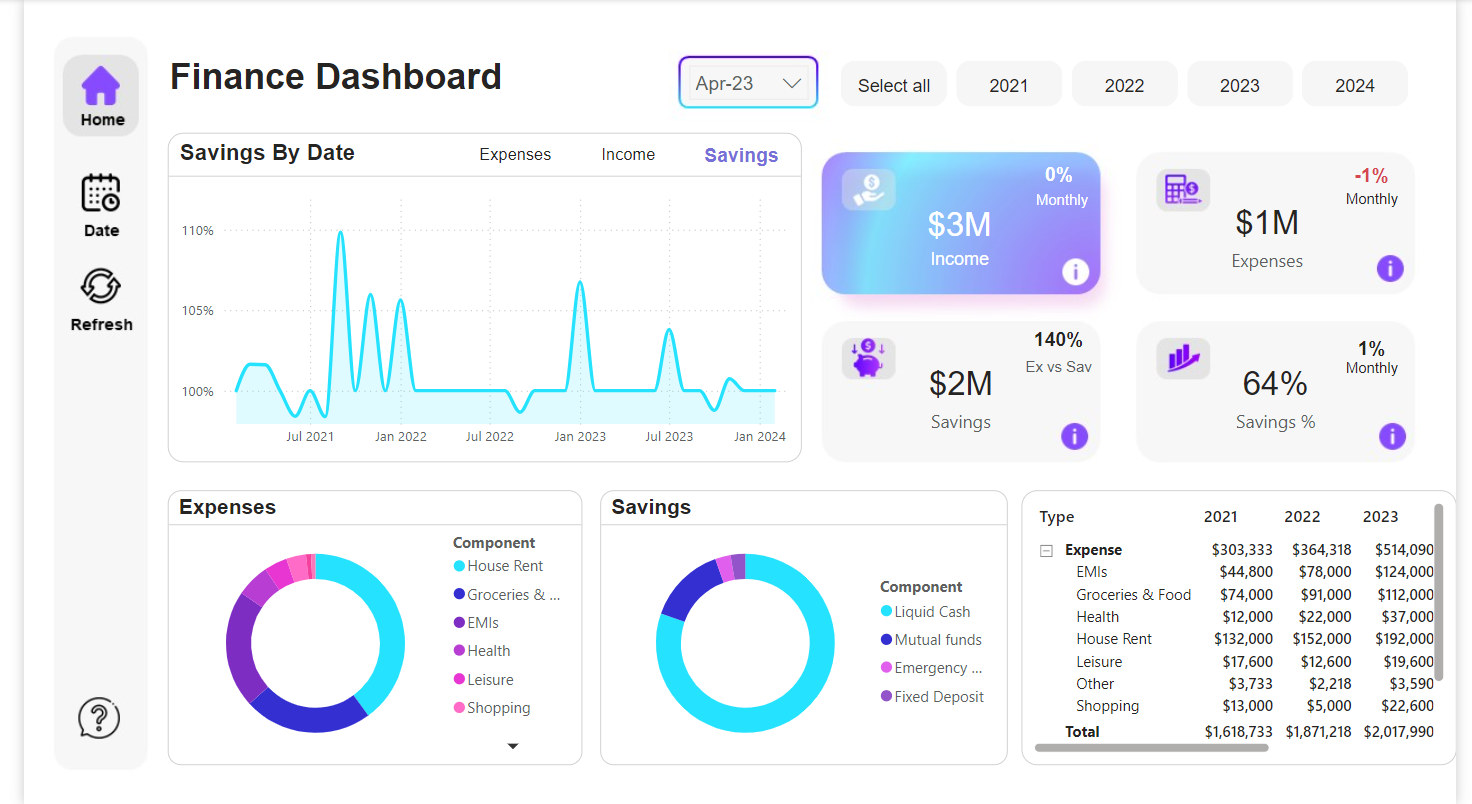

Layout of this report page (visuals, bound fields, positions):
{"tool":"powerbi","page":{"name":"Page 1","canvas":[1280,720],"ordinal":0},"visuals":[{"type":"card","fields":{"Values":["Dataset.Income"]},"box":[720.9,153.5,229.1,114],"z":0},{"type":"card","fields":{"Values":["Dataset.Savings"]},"box":[691.9,294.2,289.5,120.9],"z":1000},{"type":"card","fields":{"Values":["Dataset.Expenses"]},"box":[979.1,138.4,262.8,144.2],"z":2000},{"type":"card","fields":{"Values":["Dataset.Savings %"]},"box":[990.7,294.2,255.8,120.9],"z":3000},{"type":"advancedSlicerVisual","fields":{"Values":["Dataset.Yearr"]},"box":[725.2,50.6,518.6,52],"z":4000},{"type":"donutChart","title":"Savings","fields":{"Y":["Dataset.Savings"],"Category":["Dataset.Component"]},"box":[514.8,438.8,364,245.7],"z":5000},{"type":"donutChart","title":"Expenses","fields":{"Y":["Dataset.Expenses"],"Category":["Dataset.Component"]},"box":[128.4,438.8,370.7,245.7],"z":6000},{"type":"pivotTable","fields":{"Values":["Dataset.Total Value"],"Rows":["Dataset.Type","Dataset.Component"],"Columns":["Dataset.Yearr"]},"box":[891.1,438.8,388.6,245.7],"z":7000},{"type":"areaChart","fields":{"Category":["Dataset.Date"],"Y":["Dataset.Line_Chart_Measures"]},"box":[128.4,119.5,566.1,294.8],"z":8000},{"type":"advancedSlicerVisual","fields":{"Values":["Line_Selection_Table.Type"]},"box":[387.9,120.9,306.4,37.9],"z":9000},{"type":"slicer","fields":{"Values":["Selected_Date.Month-Yr"]},"box":[583.7,48.8,126.7,43],"z":10000},{"type":"card","fields":{"Values":["Dataset.Income Monthly Gr"]},"box":[879.8,130.7,89.9,54.8],"z":11000},{"type":"card","fields":{"Values":["Dataset.Savings Monthly Gr"]},"box":[1160.8,285.3,85.7,57.6],"z":12000},{"type":"card","fields":{"Values":["Dataset.Expenses Monthly Gr"]},"box":[1160.8,127.9,85.7,60.4],"z":13000},{"type":"card","fields":{"Values":["Dataset.Ex vs Sav"]},"box":[878.4,285.3,91.3,57.6],"z":14000},{"type":"textbox","box":[125.1,46.9,350.6,50.2],"z":15000},{"type":"textbox","box":[1175.8,164.1,80.4,30.1],"z":16000},{"type":"textbox","box":[898.9,165.3,80.4,30.1],"z":17000},{"type":"textbox","box":[1175.8,314.9,80.4,30.1],"z":18000},{"type":"actionButton","box":[39,148.9,62.2,47.7],"z":19000},{"type":"actionButton","box":[39,232.8,62.2,47.7],"z":21000}]}

Visuals, with their boxes on the page's 1280x720 design canvas (x1, y1, x2, y2). These are canvas units, not pixel positions in the 1472x804 screenshot, which may show the page scaled, cropped or inside an application window:
card - Dataset.Income: (721, 154, 950, 268)
card - Dataset.Savings: (692, 294, 981, 415)
card - Dataset.Expenses: (979, 138, 1242, 283)
card - Dataset.Savings %: (991, 294, 1246, 415)
advancedSlicerVisual - Dataset.Yearr: (725, 51, 1244, 103)
"Savings" donutChart: (515, 439, 879, 684)
"Expenses" donutChart: (128, 439, 499, 684)
pivotTable - Dataset.Total Value x Dataset.Type: (891, 439, 1280, 684)
areaChart - Dataset.Date x Dataset.Line_Chart_Measures: (128, 120, 694, 414)
advancedSlicerVisual - Line_Selection_Table.Type: (388, 121, 694, 159)
slicer - Selected_Date.Month-Yr: (584, 49, 710, 92)
card - Dataset.Income Monthly Gr: (880, 131, 970, 186)
card - Dataset.Savings Monthly Gr: (1161, 285, 1246, 343)
card - Dataset.Expenses Monthly Gr: (1161, 128, 1246, 188)
card - Dataset.Ex vs Sav: (878, 285, 970, 343)
textbox: (125, 47, 476, 97)
textbox: (1176, 164, 1256, 194)
textbox: (899, 165, 979, 195)
textbox: (1176, 315, 1256, 345)
actionButton: (39, 149, 101, 197)
actionButton: (39, 233, 101, 280)
